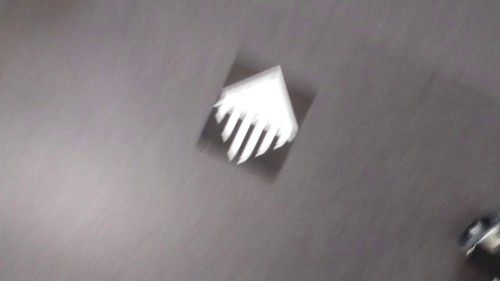misgoods: (207, 64, 305, 164)
